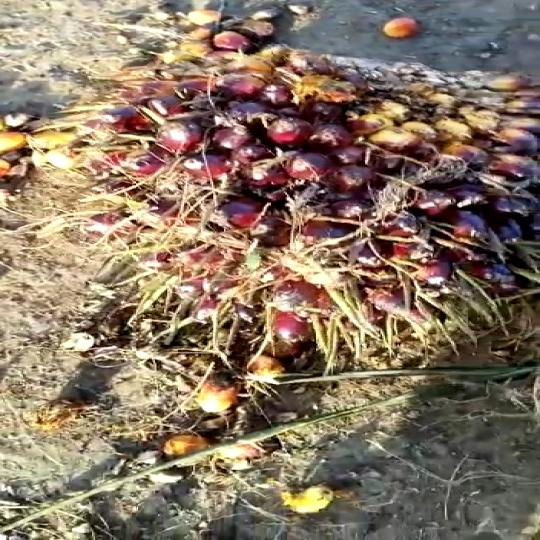mentah: (111, 43, 540, 377)
